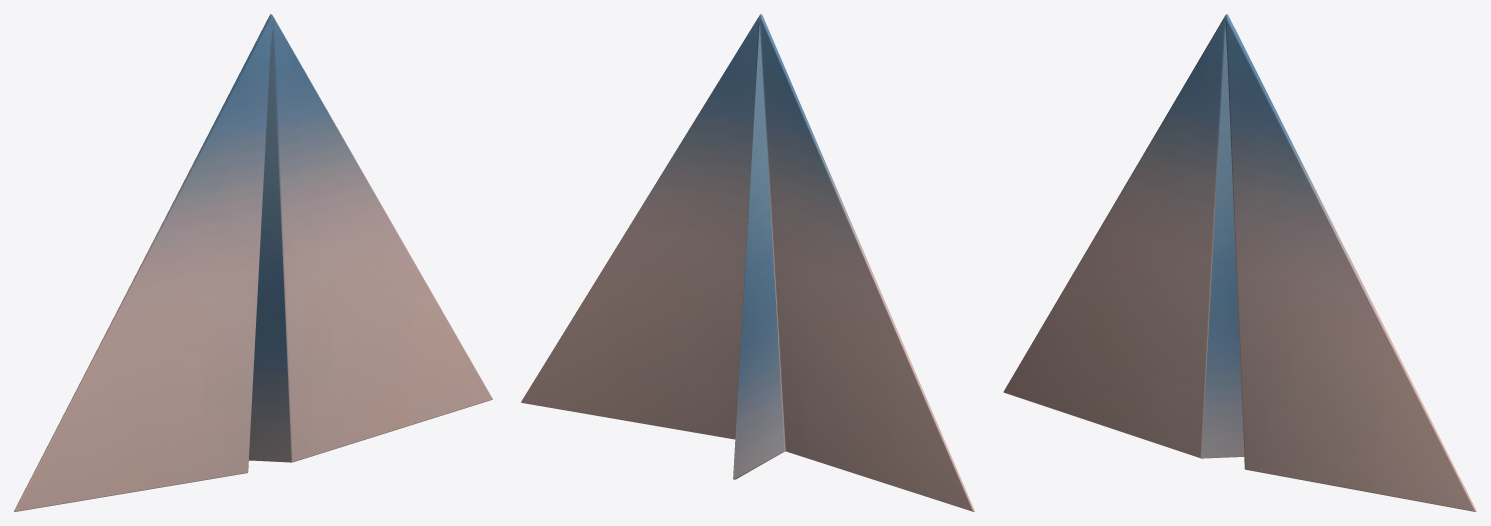
The picture shows the model from 3 angles, left to right: view 1: azimuth 30°, elevation 25°; view 2: azimuth 150°, elevation 25°; view 3: azimuth 330°, elevation 25°; orthographic projection. The views are drawn at different scales.
Visible parts, largest first — view 1: PLANE; view 2: PLANE; view 3: PLANE.
Boxes of the visible parts, x1,y1,x2,y2 form: PLANE: [14, 14, 492, 511]; PLANE: [521, 14, 974, 511]; PLANE: [1003, 14, 1476, 511].
Size of the model in its own units: 1.96 by 1.83 by 0.2298.
Materials: 1 (1 with a texture image).
